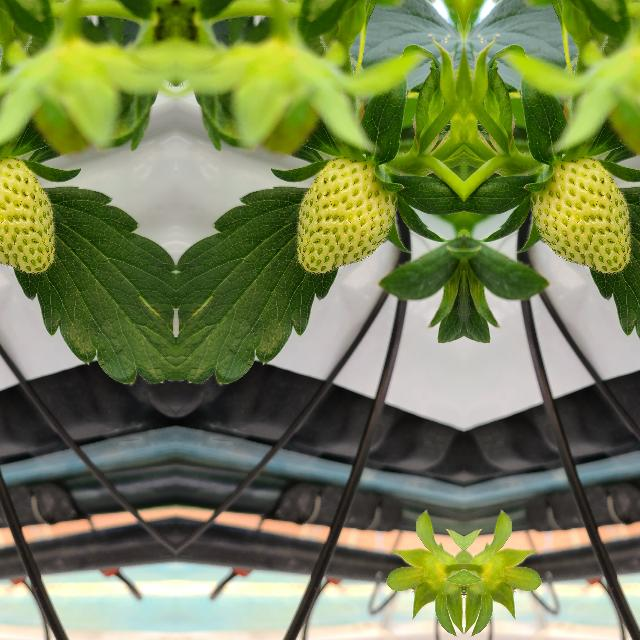Health_25: (292, 156, 398, 276), (528, 156, 634, 276), (0, 156, 57, 276)
